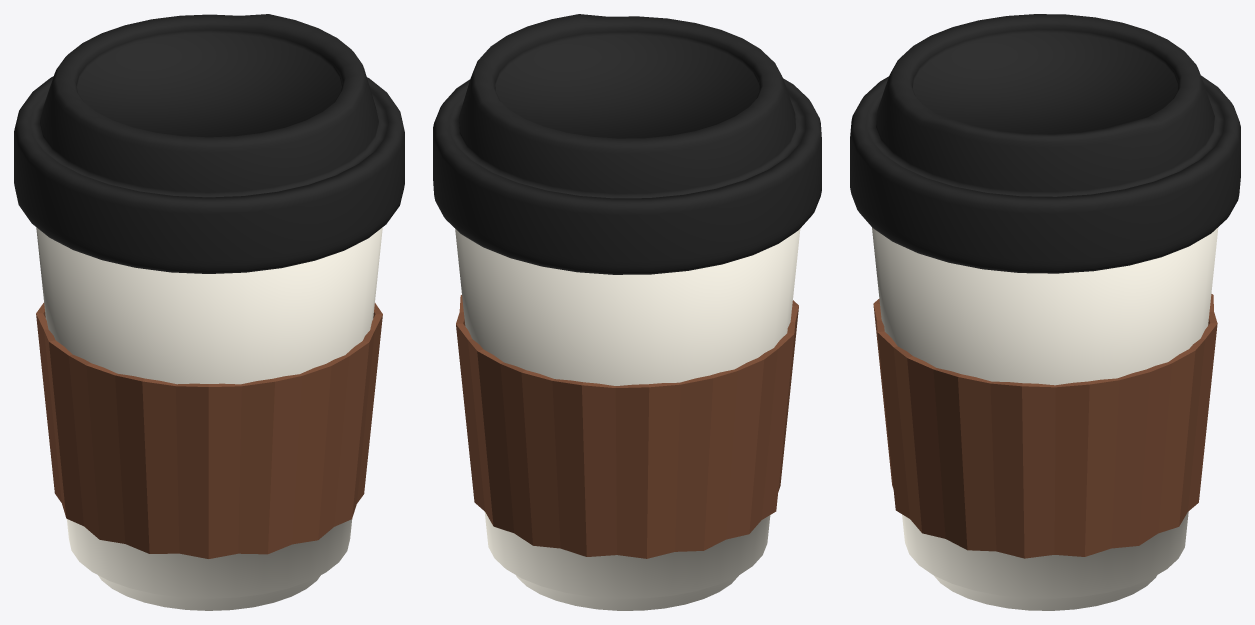
The model's file is Coffee.glb.
3 views of the same model, side by side, from view 1: azimuth 30°, elevation 25°; view 2: azimuth 150°, elevation 25°; view 3: azimuth 270°, elevation 25° (orthographic).
Visible parts, largest first — view 1: Coffee; view 2: Coffee; view 3: Coffee.
Boxes of the visible parts, x1,y1,x2,y2 form: Coffee: (14, 14, 404, 610); Coffee: (433, 14, 821, 610); Coffee: (850, 14, 1240, 610).
Bounding box in the file's own units: 0.3502 × 0.4833 × 0.3502.
